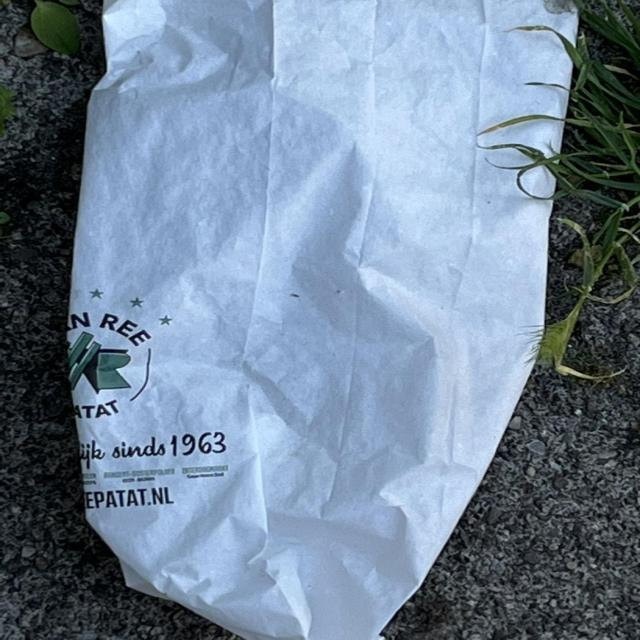Paper: (66, 2, 580, 640)
